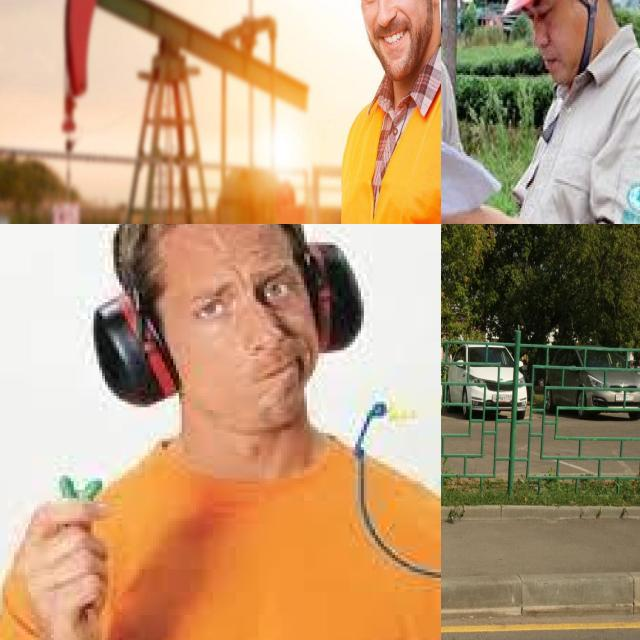Ear-protection: (77, 224, 387, 388)
No_Glasses: (519, 0, 565, 31)
face_nomask: (343, 0, 441, 86), (534, 9, 584, 88)
person: (311, 0, 441, 224)
vest: (334, 69, 441, 224)
